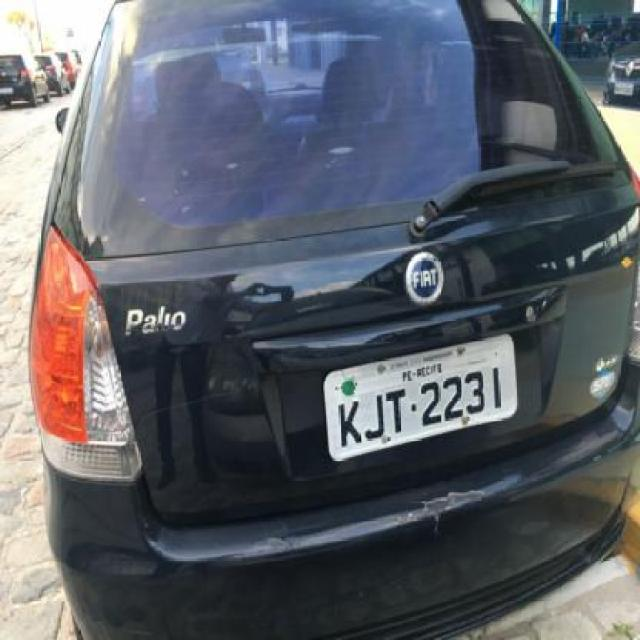old_plate: (318, 329, 523, 466)
